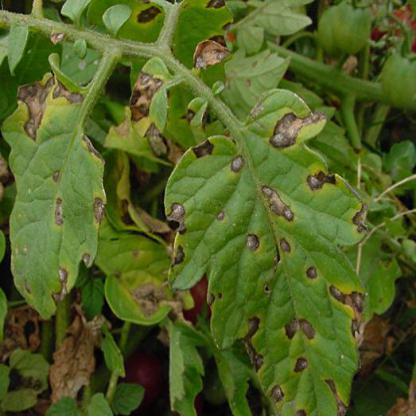Tomato Septoria leaf spot: (165, 74, 378, 412), (2, 53, 111, 325)
